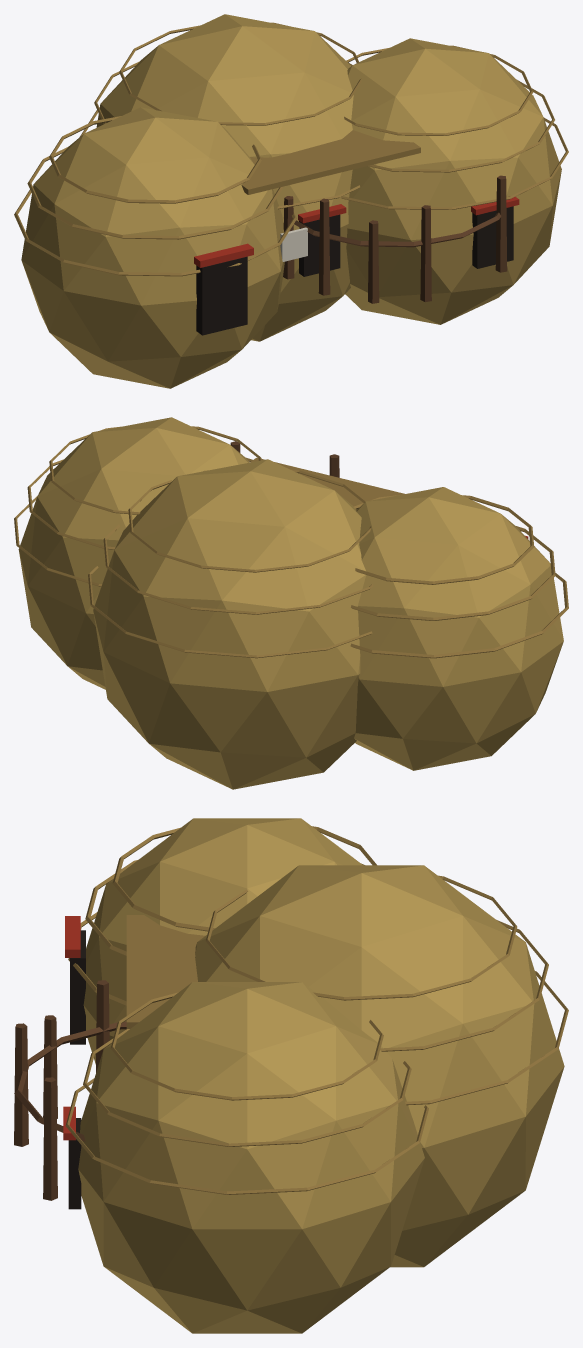
The model's file is elephant_compound.glb.
3 renders of one model, top to bottom at view 1: azimuth 30°, elevation 25°; view 2: azimuth 150°, elevation 25°; view 3: azimuth 270°, elevation 25°, orthographic. The views are drawn at different scales.
Parts seen in each view (by area): view 1: elephant_compound; view 2: elephant_compound; view 3: elephant_compound.
Boxes of the visible parts, x1,y1,x2,y2 form: elephant_compound: (14,14,568,388); elephant_compound: (14,417,568,789); elephant_compound: (14,818,568,1333).
Size of the model in its own units: 2.63 by 1.48 by 1.92.
